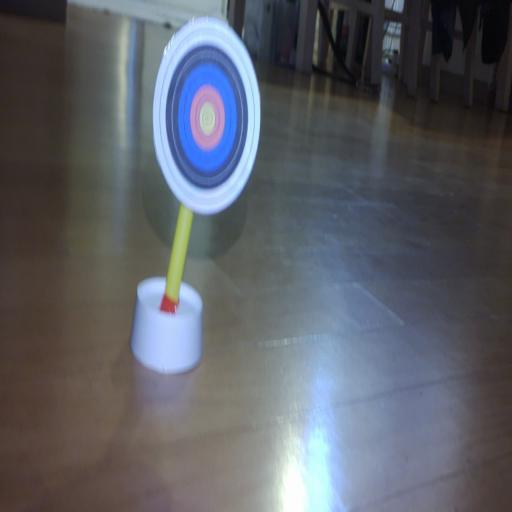target: (153, 18, 260, 214)
